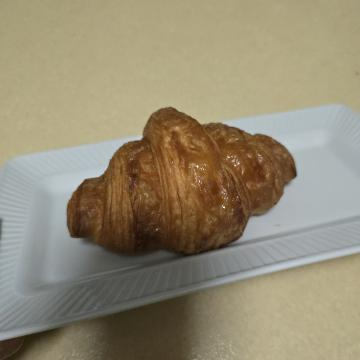croissant: (90, 51, 268, 297)
